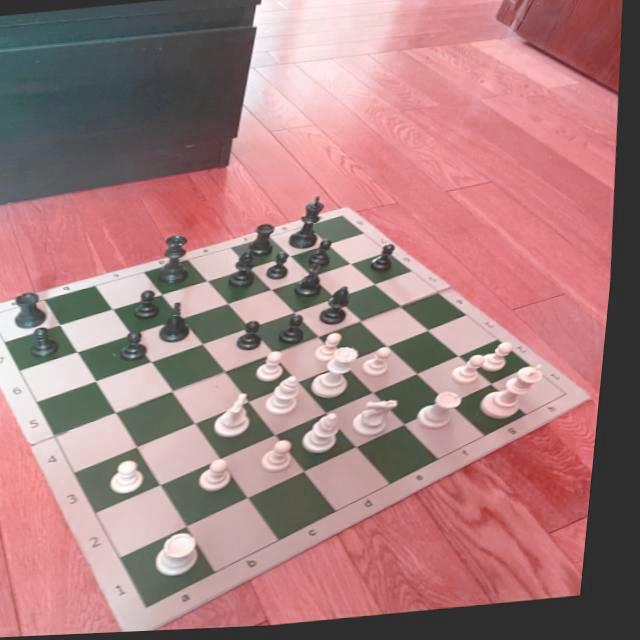chess-table-corners: (562, 392, 582, 408), (152, 601, 170, 617), (336, 214, 352, 225), (0, 309, 6, 323)
